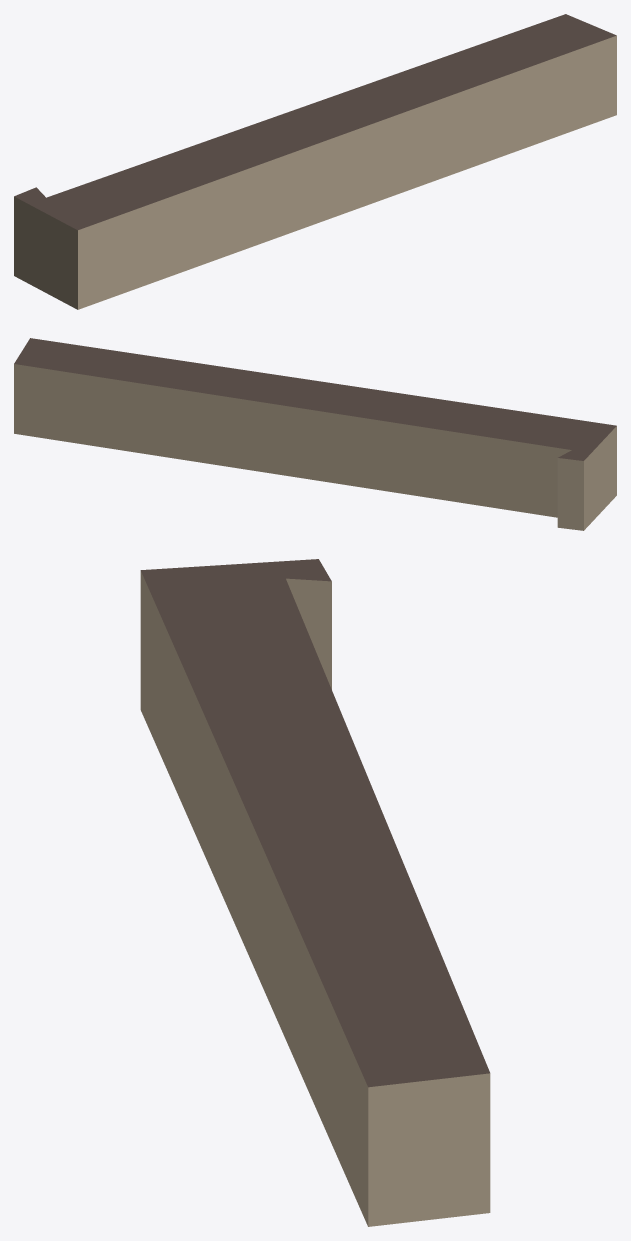
3 views of the same model, one above another, from view 1: azimuth 30°, elevation 25°; view 2: azimuth 150°, elevation 25°; view 3: azimuth 270°, elevation 25° (orthographic). The views are drawn at different scales.
Visible parts, largest first — view 1: HP-w1076065859; view 2: HP-w1076065859; view 3: HP-w1076065859.
Boxes of the visible parts, box(x1,y1,x2,y2) form: HP-w1076065859: box(14, 14, 616, 309); HP-w1076065859: box(14, 338, 616, 530); HP-w1076065859: box(140, 559, 490, 1226).
Bounding box in the file's own units: 73.02 × 9 × 20.43.
